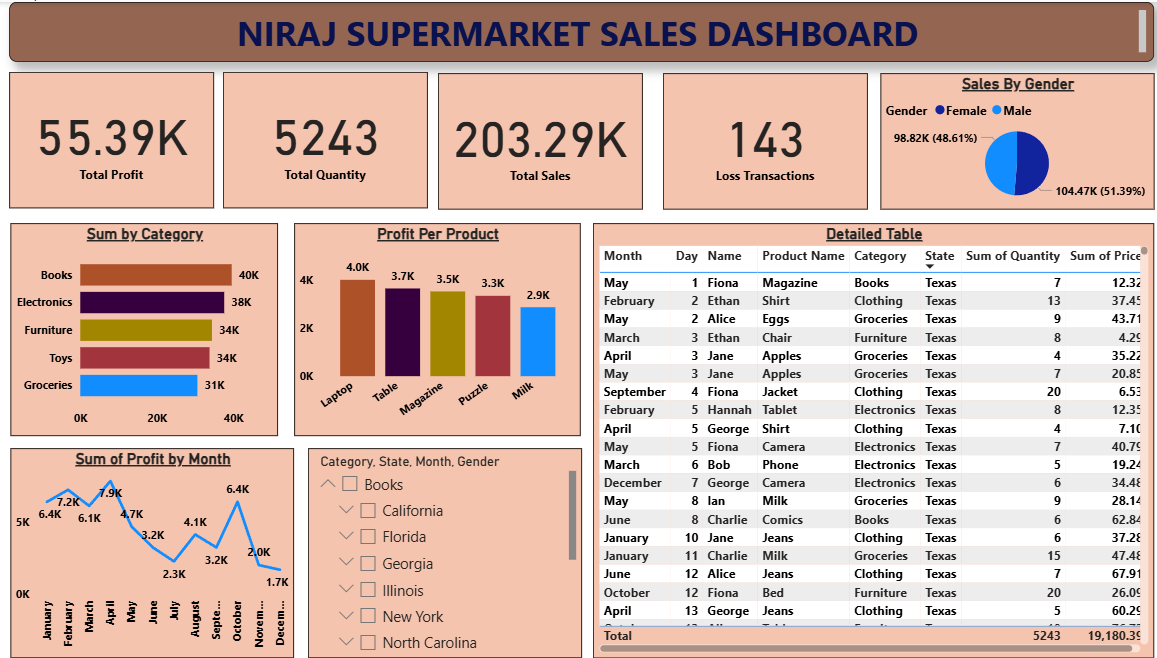

The page's visual inventory and layout, read from the dashboard file:
{"tool":"powerbi","page":{"name":"Page 1","canvas":[1280,720],"ordinal":0},"visuals":[{"type":"textbox","box":[12.3,0,1257,65.9],"z":0},{"type":"card","fields":{"Values":["Sheet1.Total Profit"]},"box":[12.3,76.8,225,149.6],"z":1000},{"type":"card","fields":{"Values":["Sheet1.Total Quantity"]},"box":[247,76.8,225,149.6],"z":2000},{"type":"card","fields":{"Values":["Sheet1.Loss Transactions"]},"box":[730,78.2,225,149.6],"z":3000},{"type":"card","fields":{"Values":["Sheet1.Total Sales"]},"box":[483,78.2,225,149.6],"z":4000},{"type":"clusteredBarChart","title":"Sum by Category","fields":{"Category":["Sheet1.Category"],"Y":["Sheet1.Sale Price"]},"box":[13.7,242.9,293.7,233.3],"z":5000},{"type":"columnChart","title":"Profit Per Product ","fields":{"Category":["Sheet1.Product Name"],"Y":["Sheet1.Profit"]},"box":[325.2,242.9,314.2,233.3],"z":6000},{"type":"pieChart","title":"Sales By Gender","fields":{"Category":["Sheet1.Gender"],"Y":["Sheet1.Sale Price"]},"box":[968.8,78.2,300.5,149.6],"z":7000},{"type":"lineChart","fields":{"Category":["Sheet1.Date.Variation.Date Hierarchy.Month"],"Y":["Sheet1.Profit"]},"box":[13.7,489.9,311.5,230.5],"z":8000},{"type":"tableEx","title":"Detailed Table","fields":{"Values":["Sheet1.Date.Variation.Date Hierarchy.Month","Sheet1.Date.Variation.Date Hierarchy.Day","Sheet1.Name","Sheet1.Product Name","Sheet1.Category","Sheet1.State","Sheet1.Quantity","Sheet1.Price"]},"box":[653.2,242.9,616.1,477.5],"z":9000},{"type":"slicer","fields":{"Values":["Sheet1.Category","Sheet1.State","Sheet1.Date.Variation.Date Hierarchy.Month","Sheet1.Gender"]},"box":[340.3,489.9,300.5,230.5],"z":10000}]}

Visuals, with their boxes in screenshot pixels (x1, y1, x2, y2), scaled from the page's 1280x720 canvas onto the 1157x658 screenshot:
textbox: 11:0:1147:60
card - Sheet1.Total Profit: 11:70:214:207
card - Sheet1.Total Quantity: 223:70:427:207
card - Sheet1.Loss Transactions: 660:71:863:208
card - Sheet1.Total Sales: 437:71:640:208
"Sum by Category" clusteredBarChart: 12:222:278:435
"Profit Per Product " columnChart: 294:222:578:435
"Sales By Gender" pieChart: 876:71:1147:208
lineChart - Sheet1.Date.Variation.Date Hierarchy.Month x Sheet1.Profit: 12:448:294:657
"Detailed Table" tableEx: 590:222:1147:657
slicer - Sheet1.Category x Sheet1.State: 308:448:579:657
